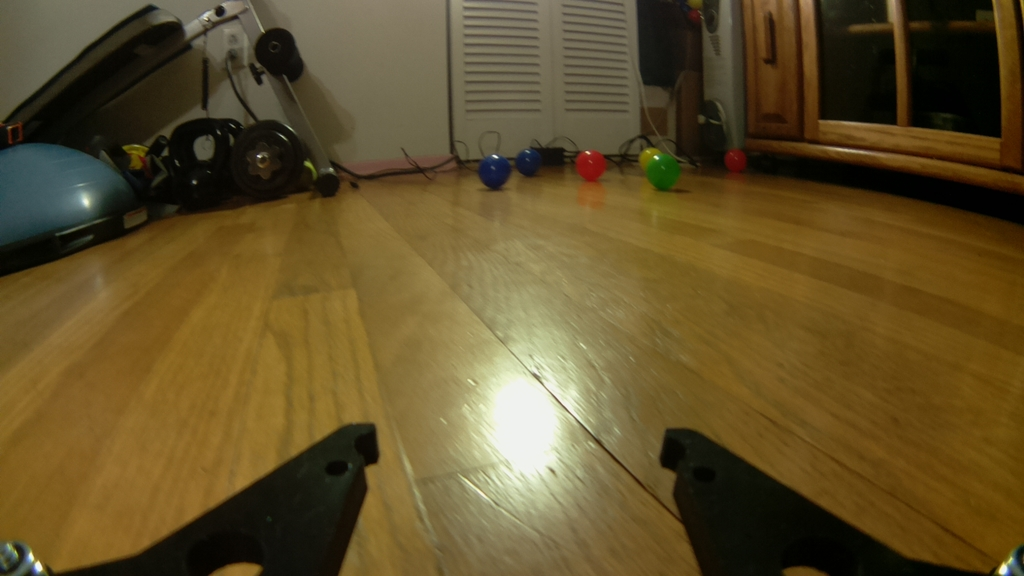ball: (576, 148, 607, 182)
